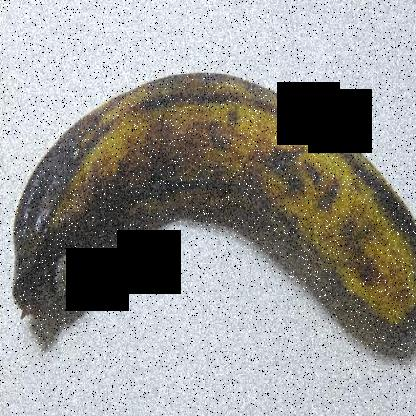overripe: (0, 41, 415, 389)
rotten: (0, 113, 162, 326)
